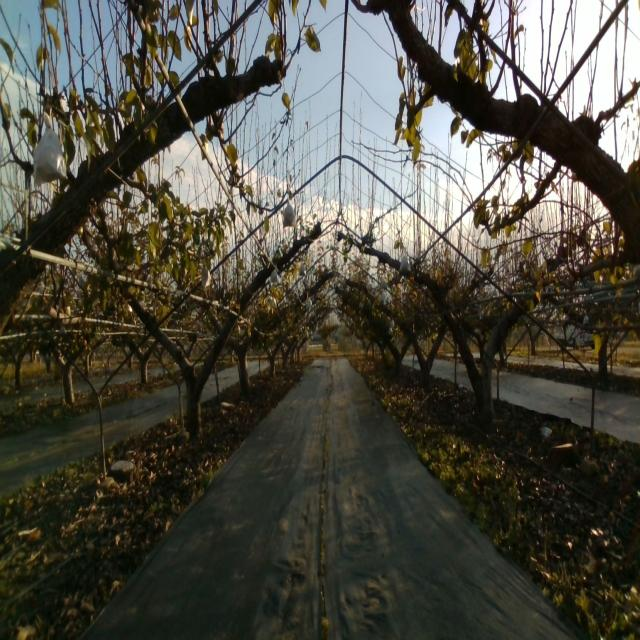pearbags: (33, 109, 68, 186), (282, 197, 297, 227), (201, 264, 212, 288), (399, 252, 411, 272)
